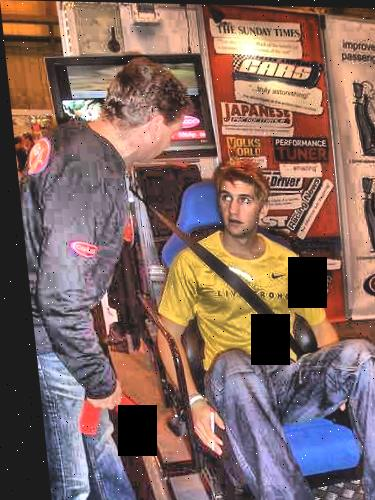seatbelt: (139, 196, 289, 335)
